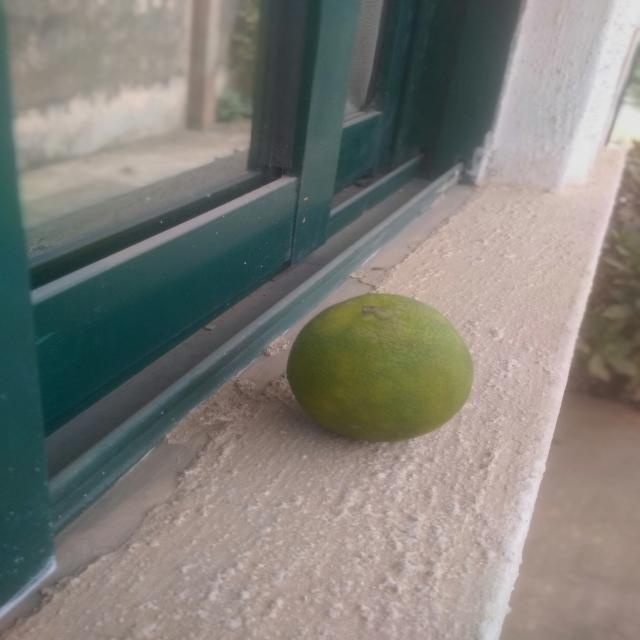agrume: (253, 274, 507, 478)
